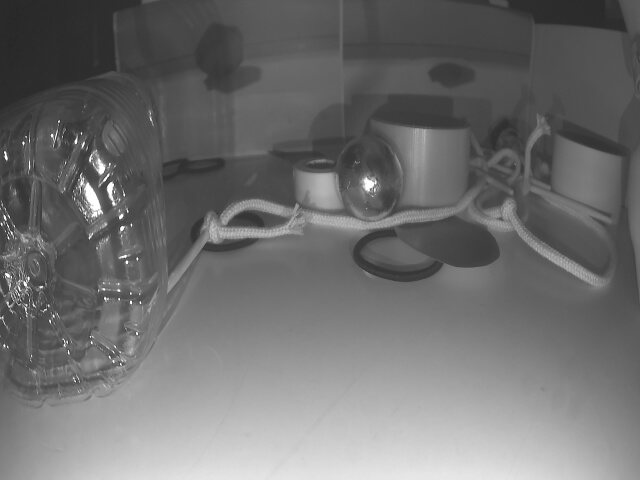Live: (336, 135, 402, 221)
